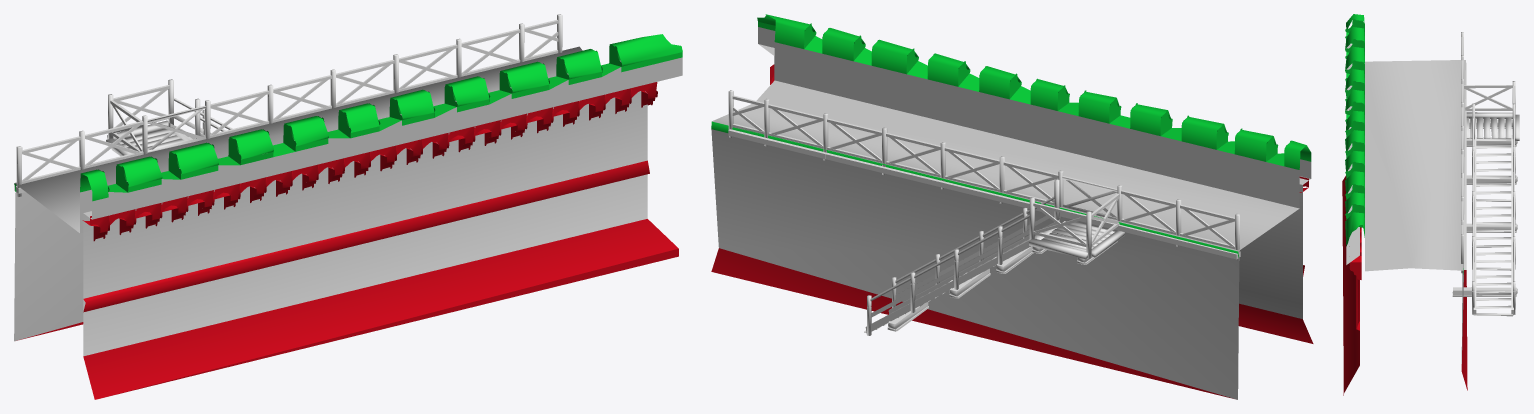
File: Wall_3 (2).fbx
3 views of the same model, side by side, from view 1: azimuth 30°, elevation 25°; view 2: azimuth 150°, elevation 25°; view 3: azimuth 270°, elevation 25° (orthographic). The views are drawn at different scales.
Visible parts, largest first — view 1: Group_4.015, Group_3.012, Group_3.013, Group_3.011; view 2: Group_4.015, Group_3.012, Group_3.013, Group_3.011; view 3: Group_4.015, Group_3.013, Group_3.012.
Boxes of the visible parts, x1,y1,x2,y2 form: Group_4.015: (14,34,682,399); Group_3.012: (14,14,562,196); Group_3.013: (106,79,232,156); Group_3.011: (147,105,206,152); Group_4.015: (711,14,1313,399); Group_3.012: (728,90,1240,261); Group_3.013: (864,179,1124,335); Group_3.011: (1060,176,1119,230); Group_4.015: (1342,14,1467,395); Group_3.013: (1452,81,1519,316); Group_3.012: (1461,32,1466,273).
Size of the model in its own units: 1947 by 692 by 660.
